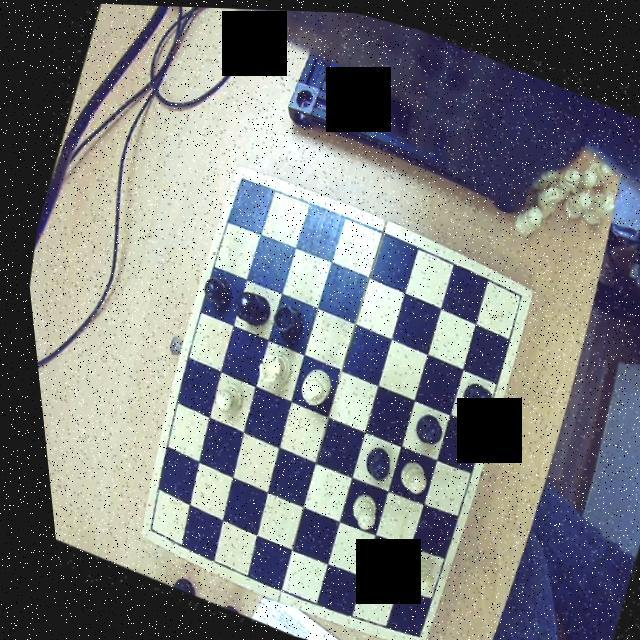chess-table-corners: (224, 165, 256, 198), (496, 276, 526, 306), (128, 517, 156, 545), (391, 614, 418, 640)
